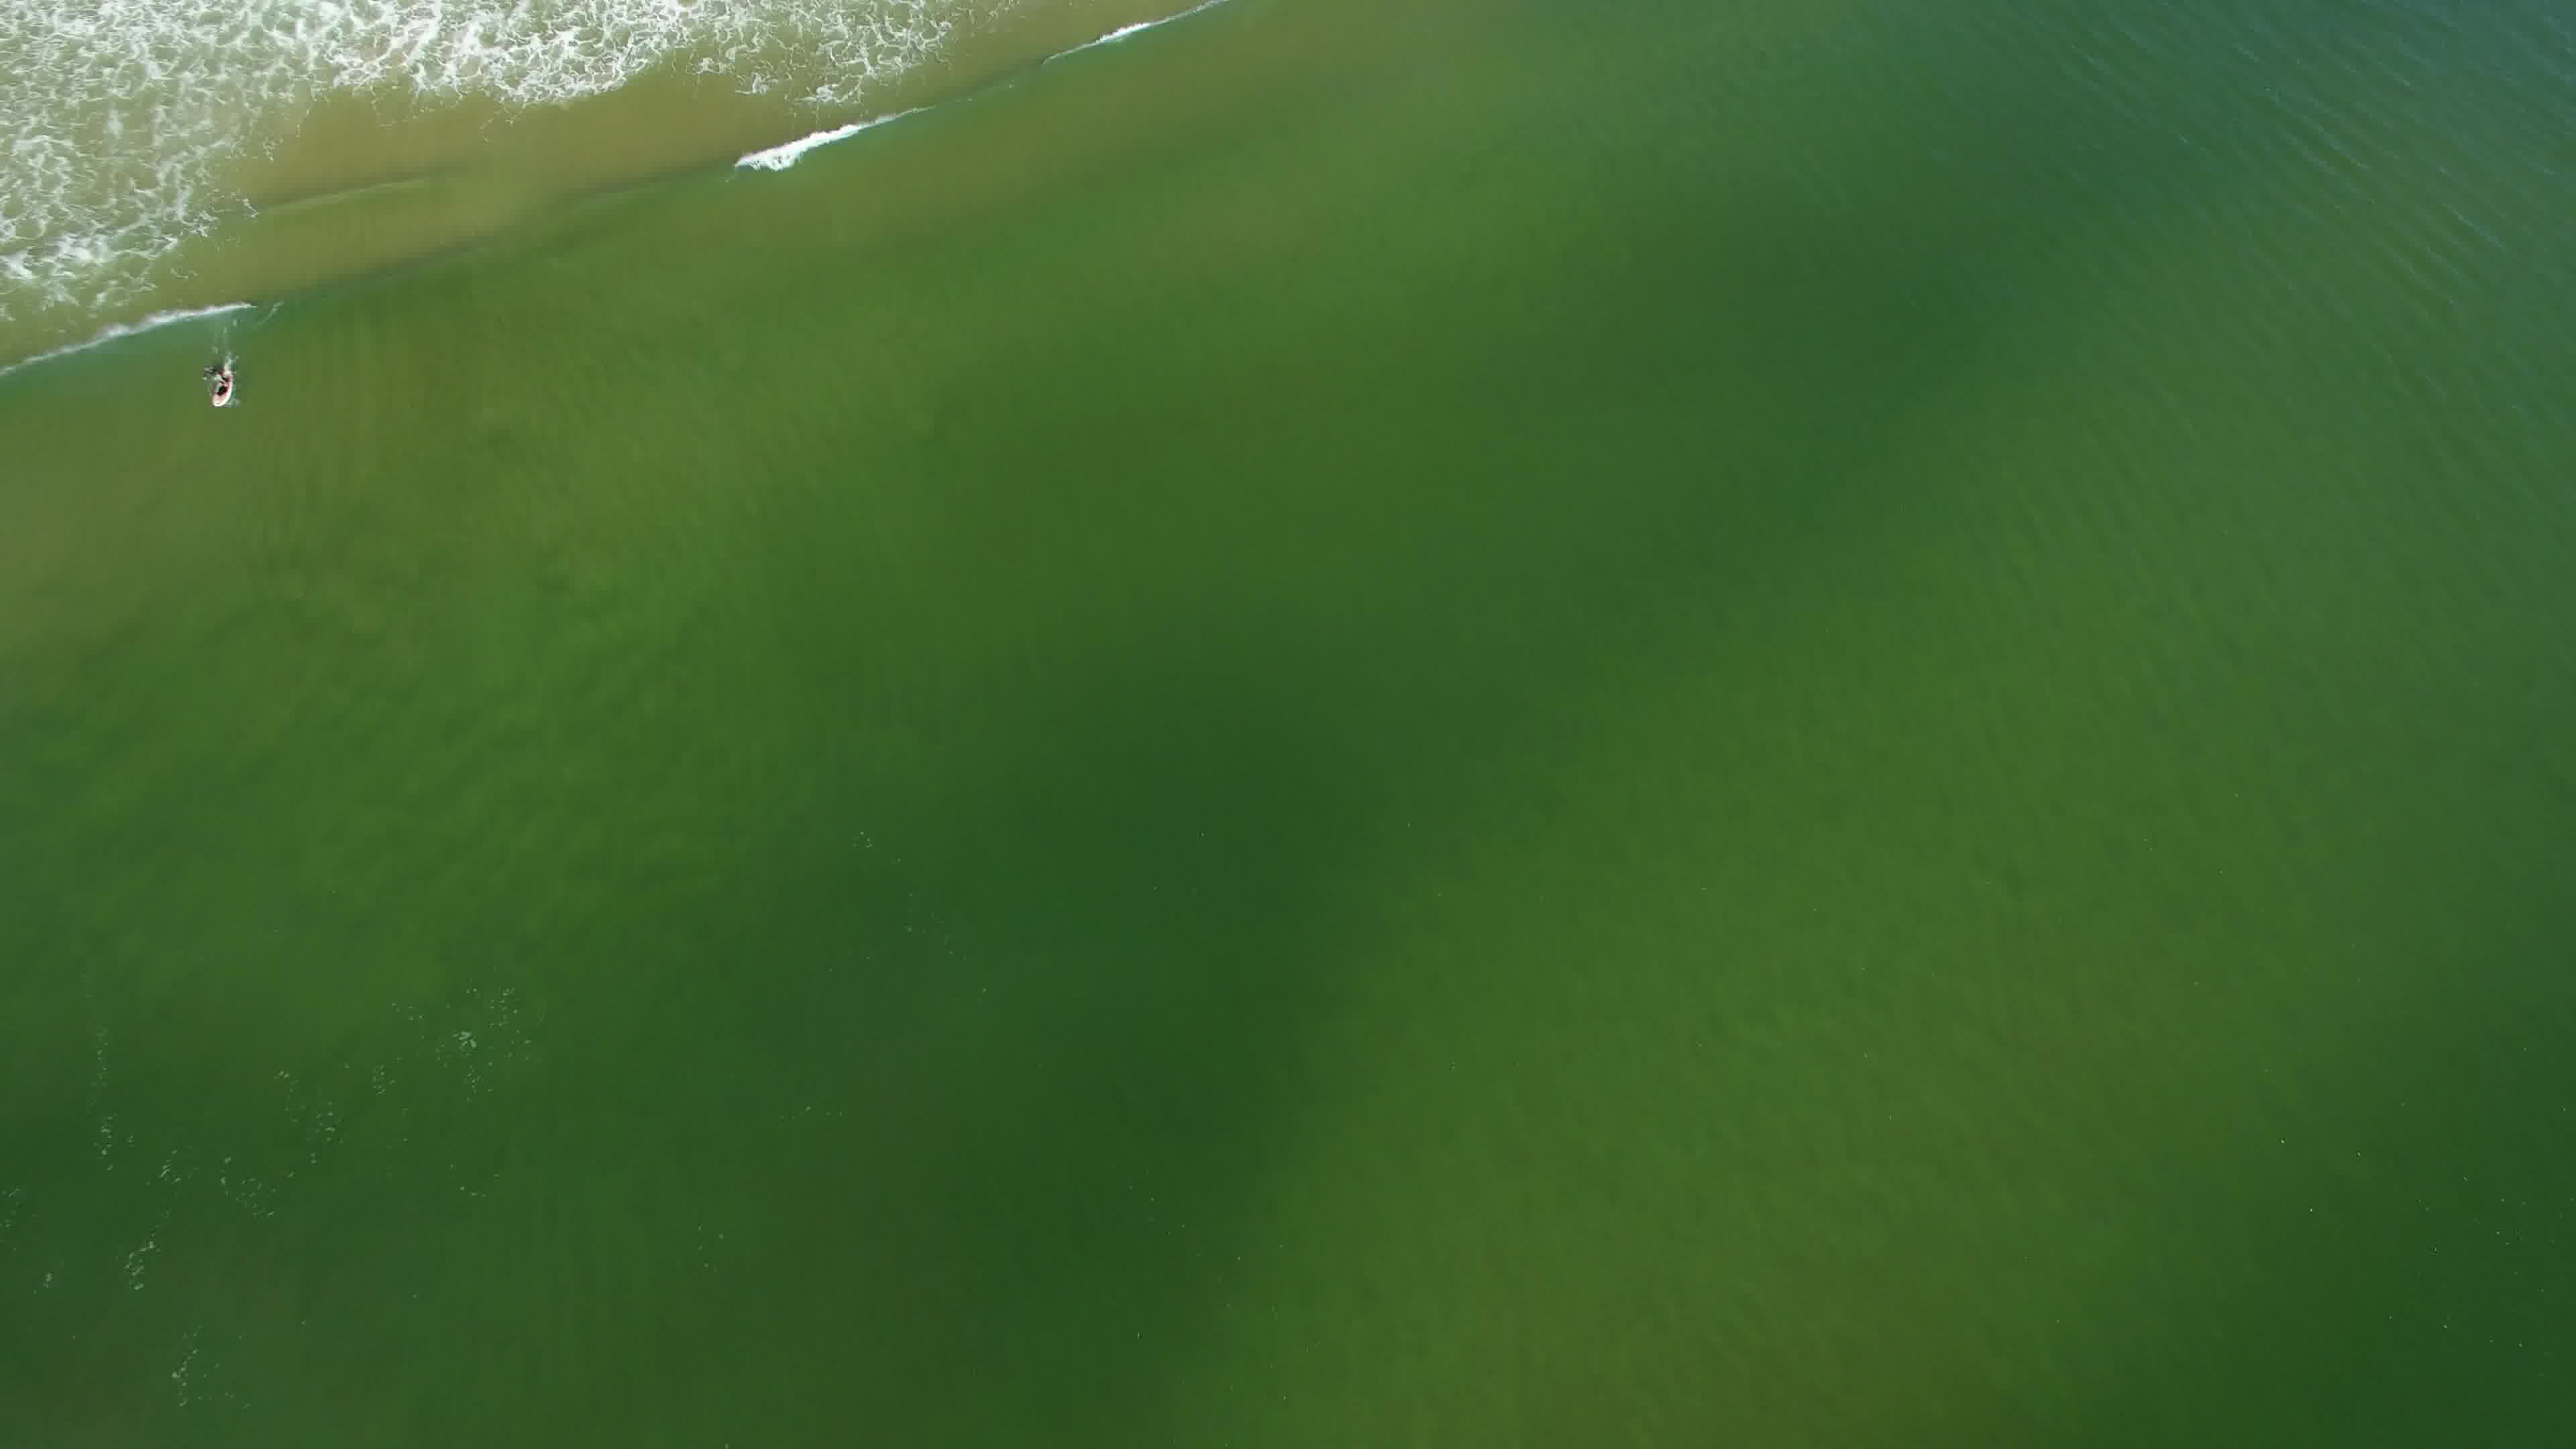surfer: (198, 359, 244, 414)
